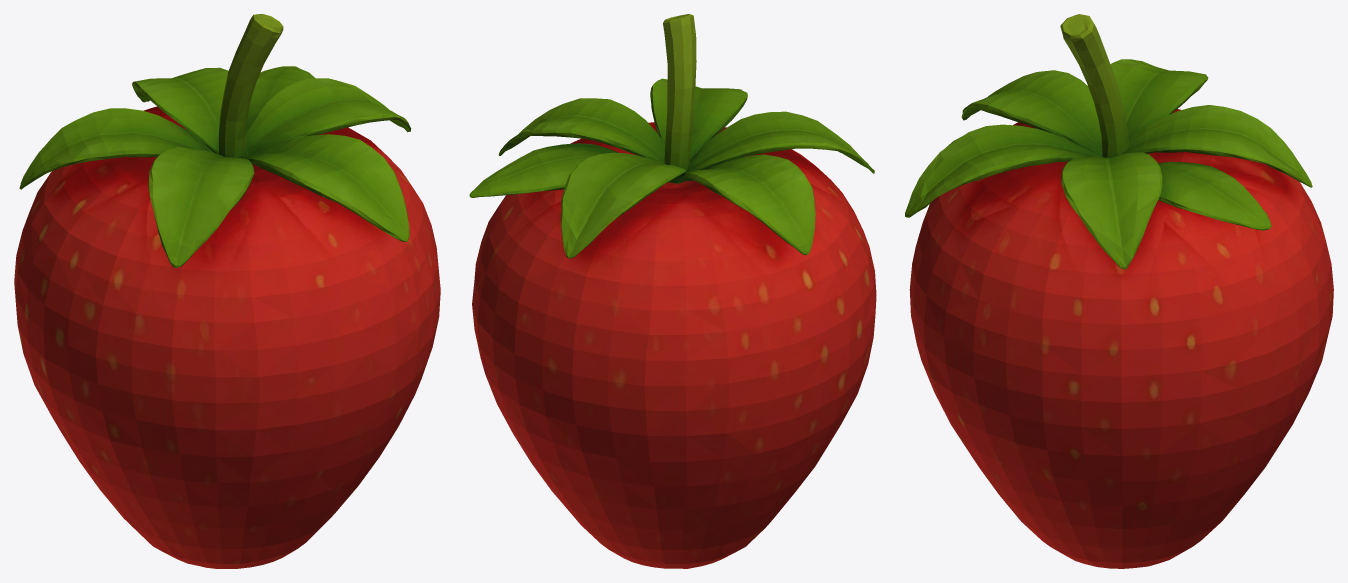
The model's file is strawberry.obj.
3 views of the same model, side by side, from view 1: azimuth 30°, elevation 25°; view 2: azimuth 150°, elevation 25°; view 3: azimuth 270°, elevation 25° (orthographic). The views are drawn at different scales.
Visible parts, largest first — view 1: Crimson Seedburst Strawberry Mesh; view 2: Crimson Seedburst Strawberry Mesh; view 3: Crimson Seedburst Strawberry Mesh.
Boxes of the visible parts, <box> form: Crimson Seedburst Strawberry Mesh: <box>14,14,440,568</box>; Crimson Seedburst Strawberry Mesh: <box>469,14,876,568</box>; Crimson Seedburst Strawberry Mesh: <box>905,14,1333,568</box>.
Size of the model in its own units: 0.6973 by 0.998 by 0.7129.
Materials: 1 (1 with a texture image).
